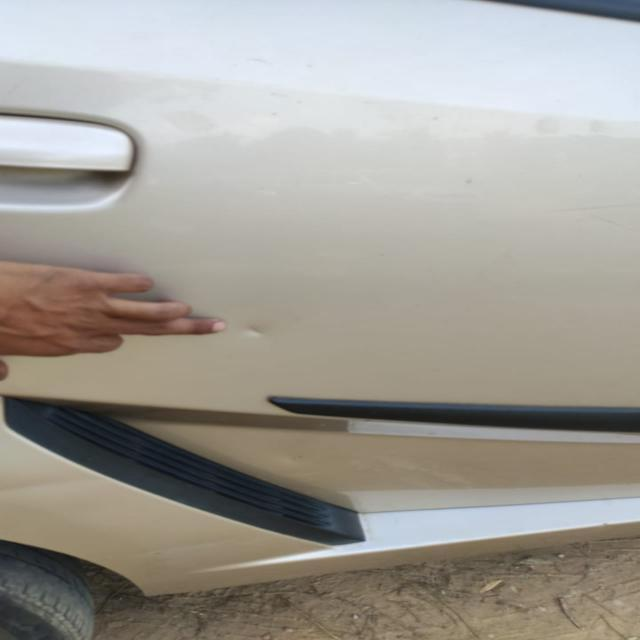doorouter-dent: (1, 8, 639, 436)
